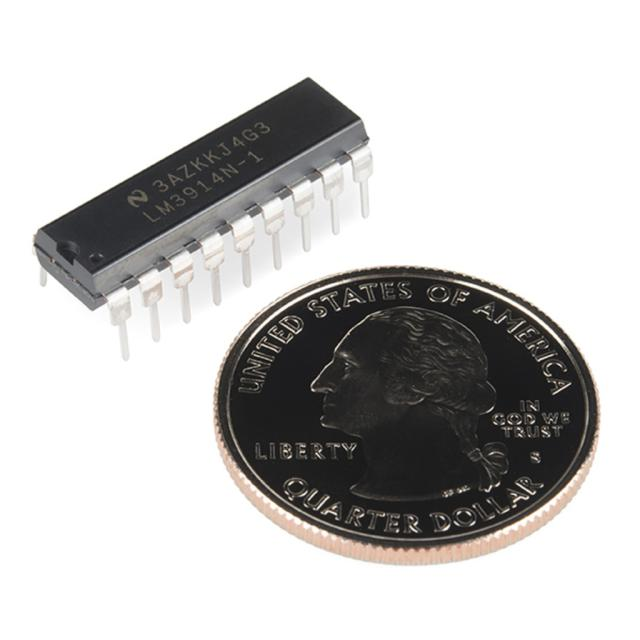Coin: (208, 262, 603, 562)
